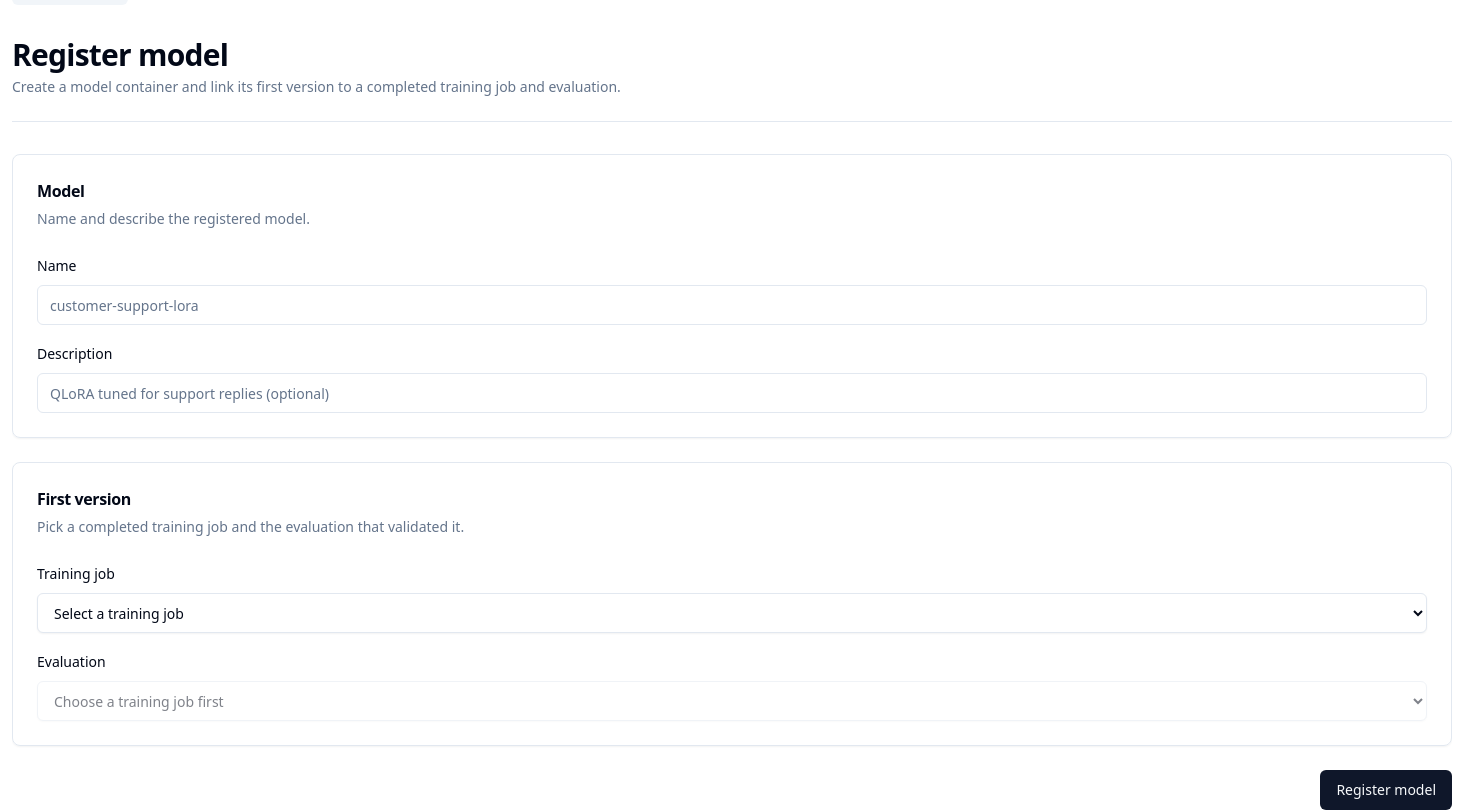
Test: RegisterModelPage › shows validation errors for missing required fields
(page scrolled)
Click the button "Register model".
click(1386, 790)  # box [1320,770,1452,809]
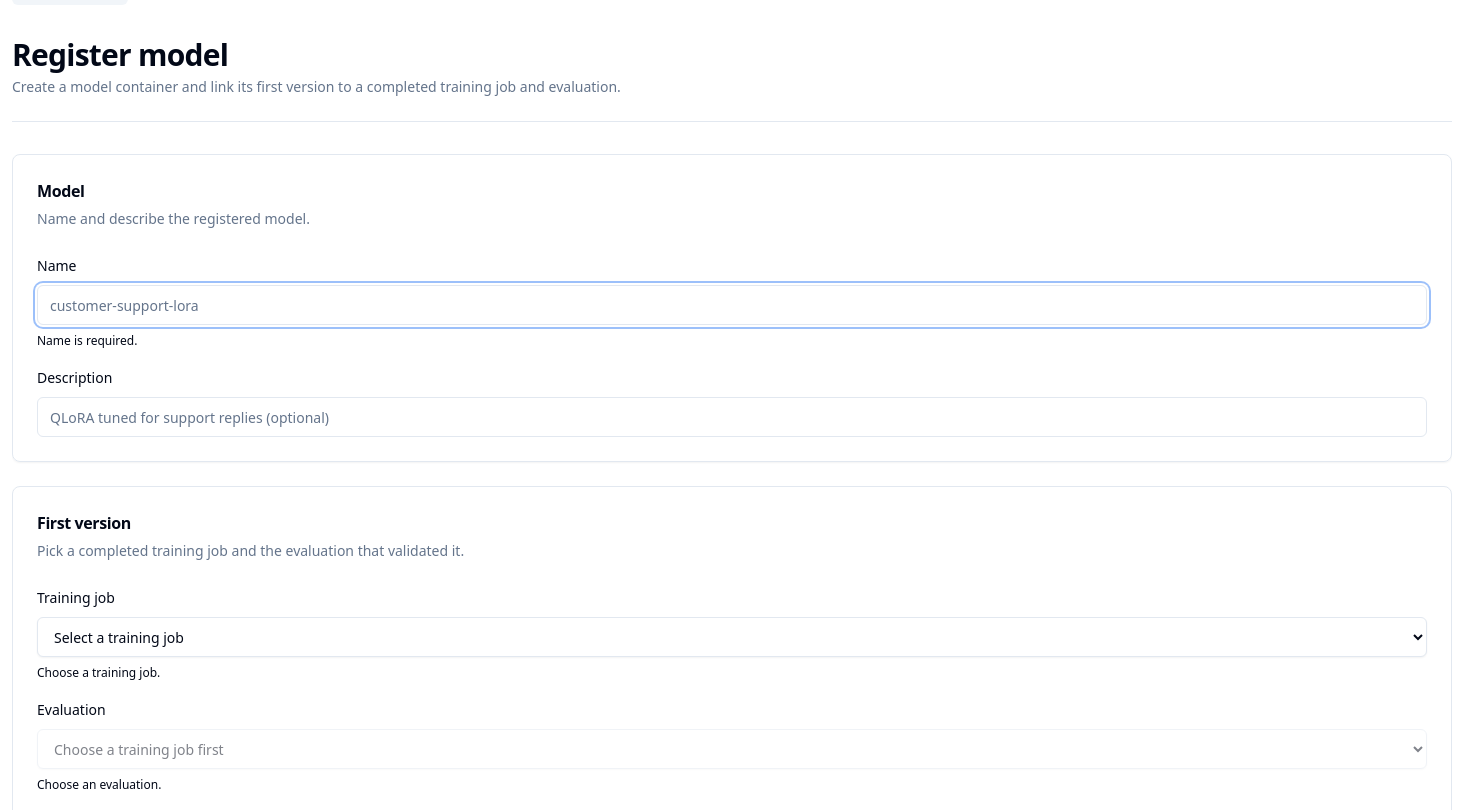
Result: the text "Name is required." is shown at [37,332,137,349]
